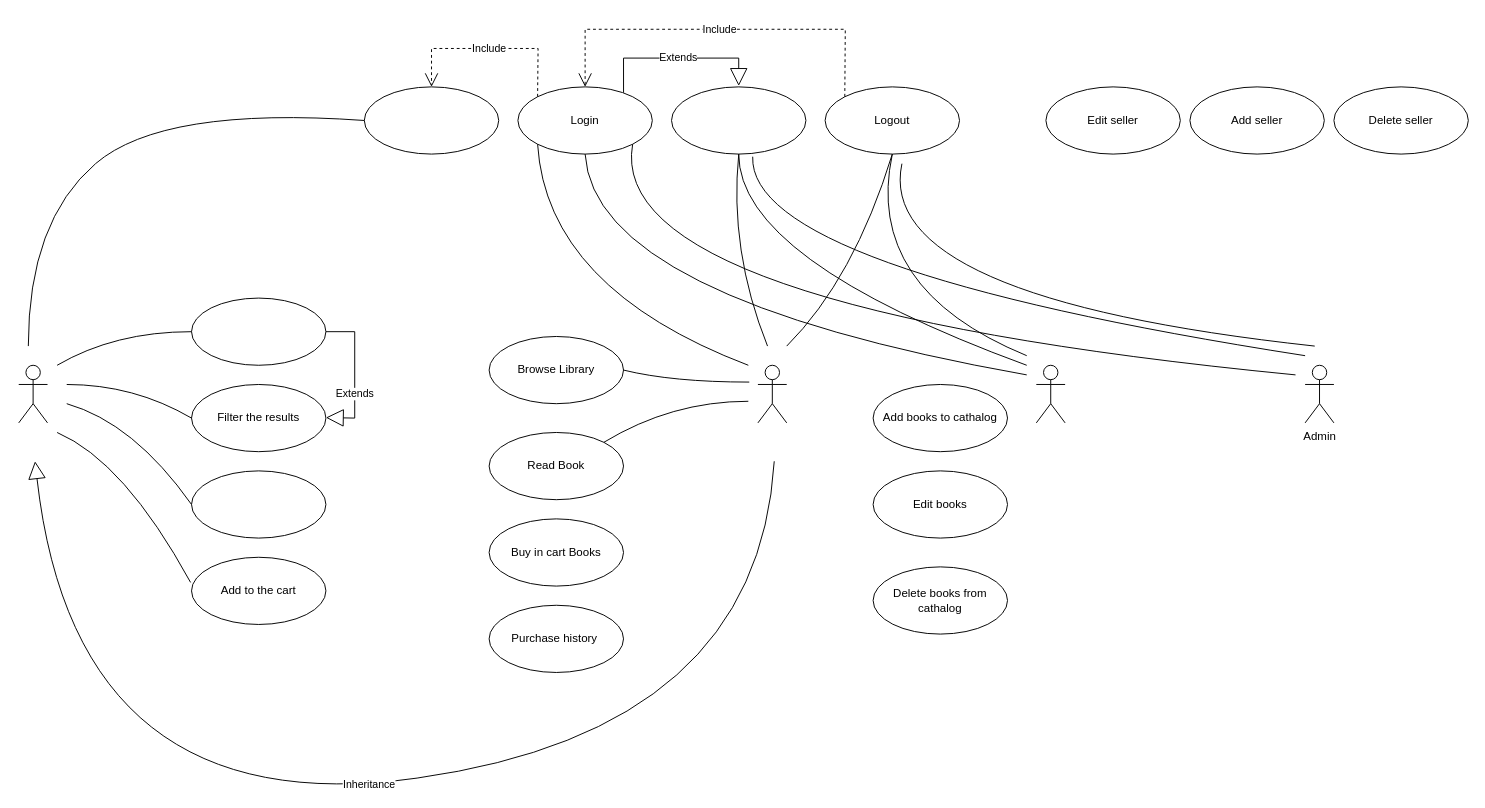
Image size: 1485x808. Some labels were removed from this diagram. Each missing label, with the box of its shape:
Browse: (191, 297, 326, 365)
Manage cart: (191, 470, 326, 538)
Manage Profile: (671, 86, 806, 154)
Ospite: (18, 364, 48, 423)
Register: (363, 86, 499, 154)
Seller: (1035, 364, 1065, 423)
Utente: (757, 364, 787, 423)
